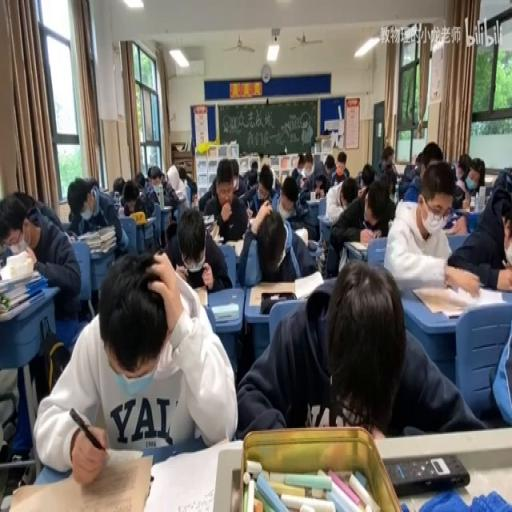calculator: (7, 450, 152, 510), (140, 442, 230, 509), (410, 284, 472, 314), (116, 213, 158, 253), (248, 282, 296, 308), (462, 282, 508, 307), (294, 269, 324, 300), (210, 300, 238, 322), (222, 236, 244, 256), (442, 210, 460, 230), (191, 286, 207, 307), (207, 219, 220, 240), (346, 240, 368, 252), (294, 225, 307, 243), (202, 213, 214, 225), (454, 205, 474, 212), (307, 239, 319, 250), (306, 196, 320, 205), (313, 152, 320, 168), (143, 216, 155, 225), (159, 204, 172, 210)
paper: (34, 252, 233, 480), (235, 258, 482, 440), (0, 194, 82, 324), (446, 168, 512, 293), (326, 176, 392, 273), (238, 202, 314, 283), (164, 205, 230, 290), (68, 174, 129, 258), (482, 304, 510, 422), (396, 142, 443, 206), (199, 158, 248, 212), (144, 164, 180, 219), (248, 162, 277, 213), (300, 155, 331, 198), (376, 145, 398, 193), (178, 164, 197, 202), (13, 191, 38, 219), (278, 178, 298, 210), (330, 151, 348, 185), (492, 166, 511, 196), (467, 158, 485, 186), (341, 181, 357, 209), (360, 164, 375, 192), (456, 154, 470, 180), (451, 182, 464, 208), (132, 196, 147, 218), (112, 176, 125, 199), (86, 176, 100, 192), (291, 168, 303, 186), (414, 151, 424, 172), (134, 171, 146, 186), (295, 154, 305, 172), (260, 154, 270, 172), (238, 162, 248, 179), (116, 206, 128, 219), (274, 174, 282, 188), (160, 174, 166, 188), (251, 162, 258, 171)
person: (384, 452, 470, 494)
